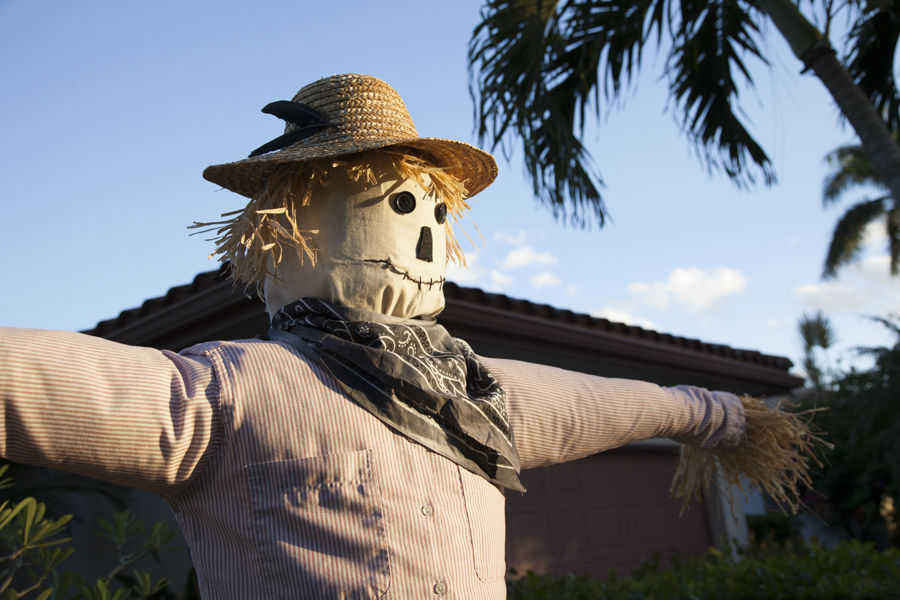person-like: (1, 71, 820, 600)
